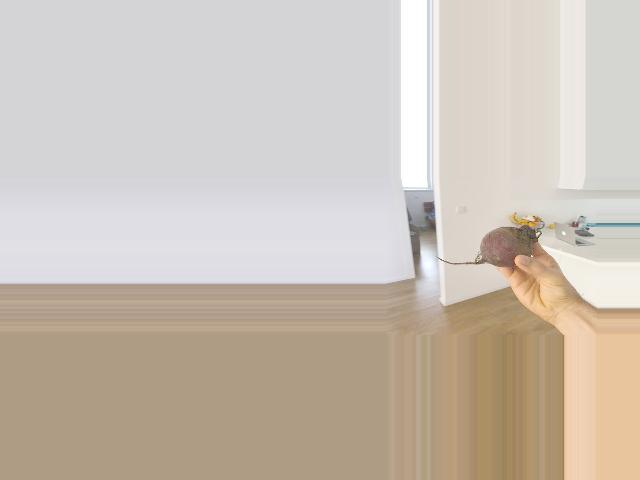beet: (435, 225, 540, 267)
